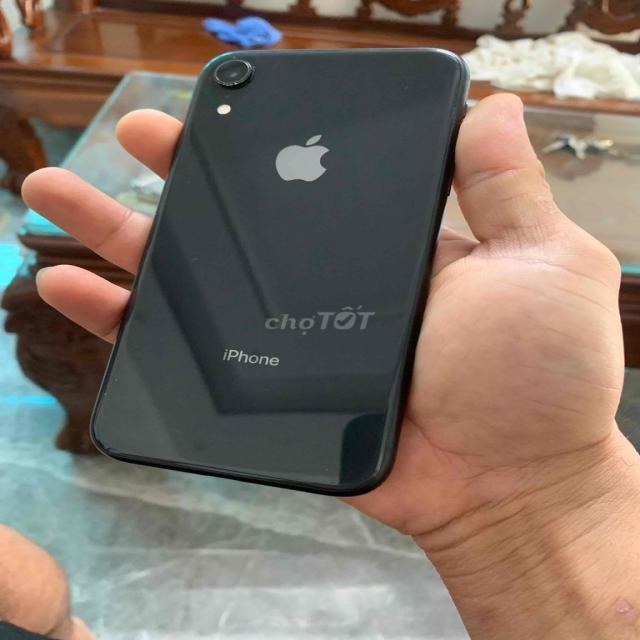gen_x_xs: (92, 48, 468, 495)
